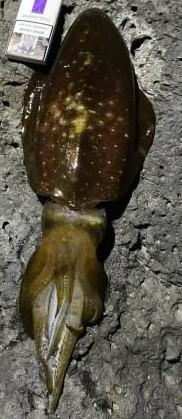Cephalopod: (16, 1, 160, 416)
